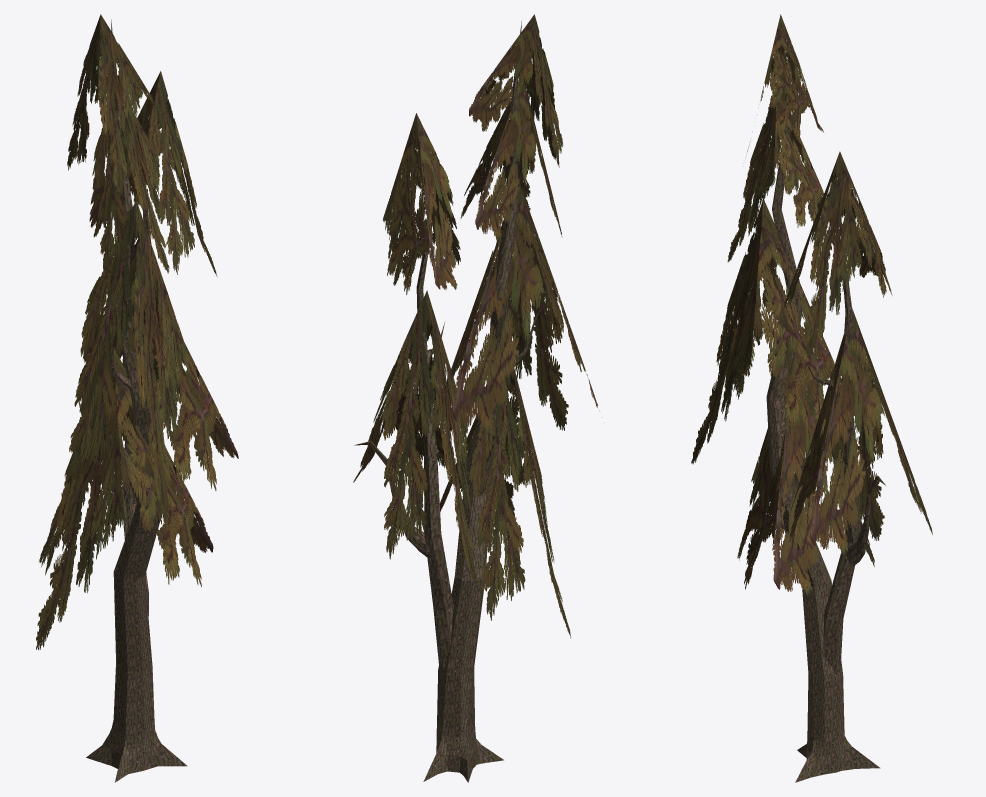
File: Pine_big02.fbx
3 renders of one model, left to right at view 1: azimuth 30°, elevation 25°; view 2: azimuth 150°, elevation 25°; view 3: azimuth 270°, elevation 25°, orthographic. The views are drawn at different scales.
Parts seen in each view (by area): view 1: Pine_Big02; view 2: Pine_Big02; view 3: Pine_Big02.
Part boxes in pixels (box(x1,y1,x2,y2)): Pine_Big02: box(36, 14, 238, 782); Pine_Big02: box(353, 14, 599, 782); Pine_Big02: box(691, 14, 932, 782).
Bounding box in the file's own units: 12.43 × 30.79 × 11.43.
2 materials, 2 textured.
